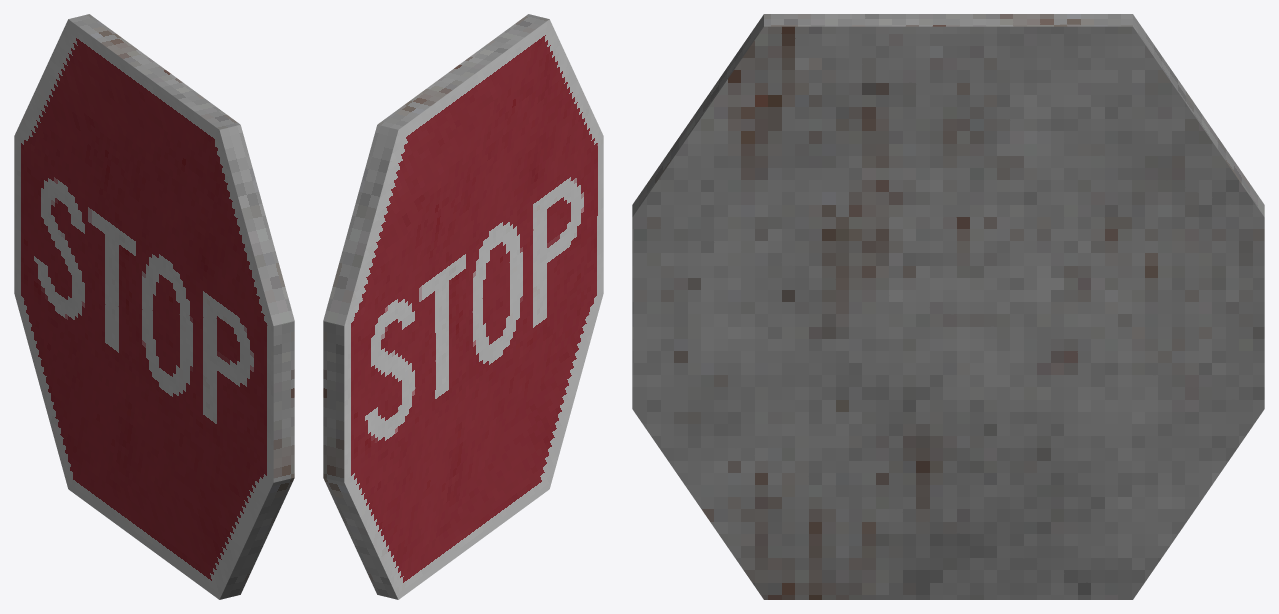
File: Sign_Stop_Plate.glb
The picture shows the model from 3 angles, left to right: view 1: azimuth 30°, elevation 25°; view 2: azimuth 150°, elevation 25°; view 3: azimuth 270°, elevation 25°; orthographic projection. The views are drawn at different scales.
Parts seen in each view (by area): view 1: Sign_Stop_Plate; view 2: Sign_Stop_Plate; view 3: Sign_Stop_Plate.
Boxes of the visible parts, <box> form: Sign_Stop_Plate: <box>14,14,294,599</box>; Sign_Stop_Plate: <box>323,14,603,599</box>; Sign_Stop_Plate: <box>632,14,1264,599</box>.
Size of the model in its own units: 0.0225 by 0.4768 by 0.4768.
Materials: 1 (1 with a texture image).
